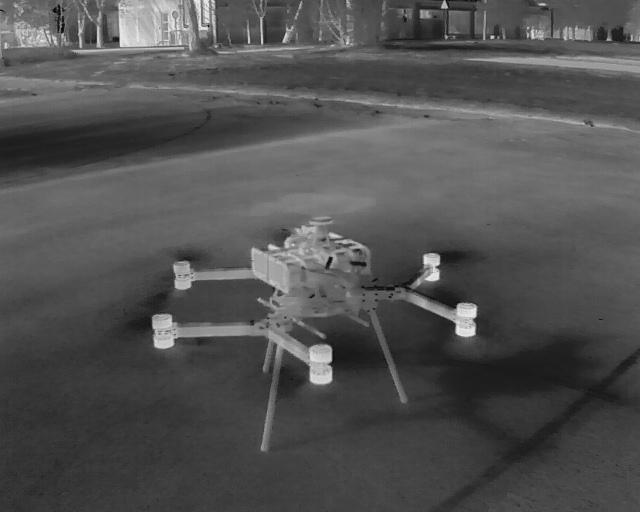drone: (96, 183, 538, 481)
